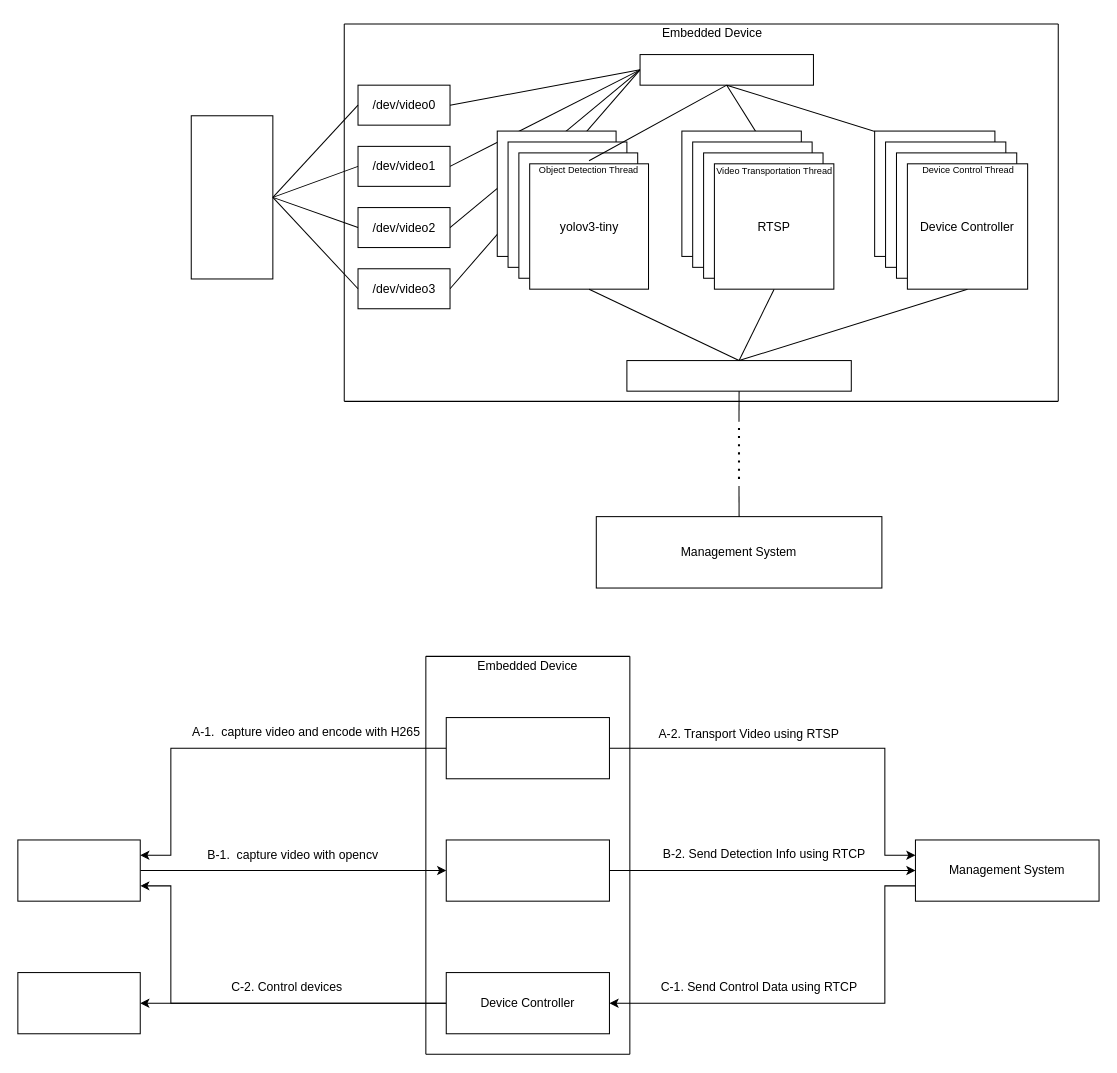
The diagram is 1117 pixels wide and 1073 high, and some of its shapes have lost their labels. Here are the shapes that lost their labels. From the top down, the centre of each, then its label:
point 726,69: Linux System Calls
point 231,197: PTZ Cams
point 738,375: Ports
point 527,748: RTSP Video Streamer
point 78,870: Cam
point 527,870: Object Detector
point 78,1003: Light
